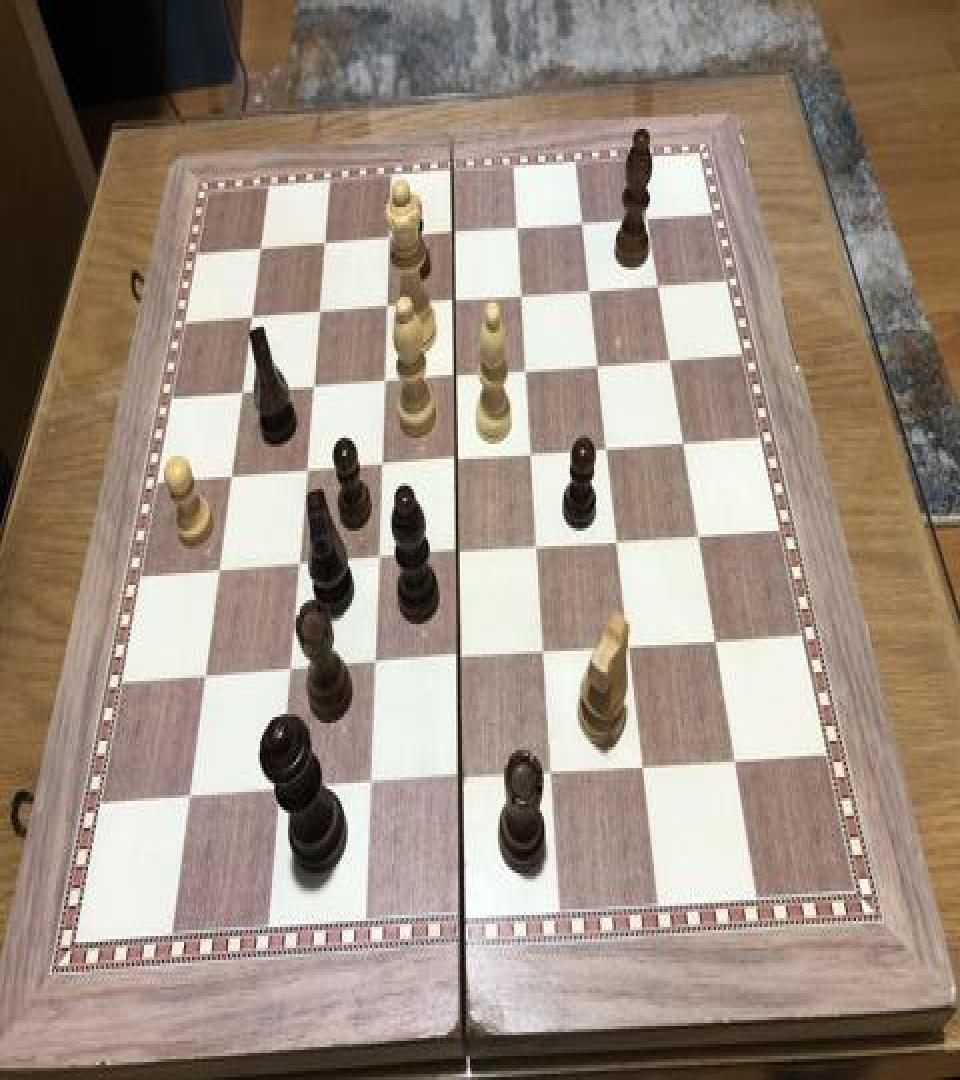xcorner: (687, 514, 711, 551), (606, 520, 630, 557), (286, 544, 310, 581), (207, 550, 231, 587), (618, 625, 642, 662), (532, 631, 556, 668), (447, 637, 471, 674), (724, 739, 748, 776), (358, 763, 382, 800), (268, 769, 292, 806), (634, 198, 658, 234), (569, 204, 593, 240), (505, 210, 529, 246), (440, 216, 464, 252), (376, 220, 400, 256), (312, 226, 336, 262), (249, 232, 273, 268), (645, 266, 669, 302), (577, 272, 601, 308), (509, 278, 533, 314), (441, 282, 465, 318), (374, 288, 398, 324), (307, 294, 331, 330), (240, 300, 264, 336), (658, 339, 682, 375), (586, 345, 610, 381), (514, 351, 538, 387), (442, 357, 466, 393), (371, 363, 395, 399), (301, 369, 325, 405), (230, 374, 254, 410), (672, 422, 696, 458), (595, 428, 619, 464), (519, 434, 543, 470), (444, 440, 468, 476), (294, 452, 318, 488), (219, 458, 243, 494), (525, 526, 549, 562), (445, 532, 469, 568), (365, 538, 389, 574), (704, 620, 728, 656), (362, 644, 386, 680), (277, 650, 301, 686), (193, 656, 217, 692), (632, 746, 656, 782), (540, 752, 564, 788), (449, 758, 473, 794), (178, 776, 202, 812), (369, 446, 393, 481)
